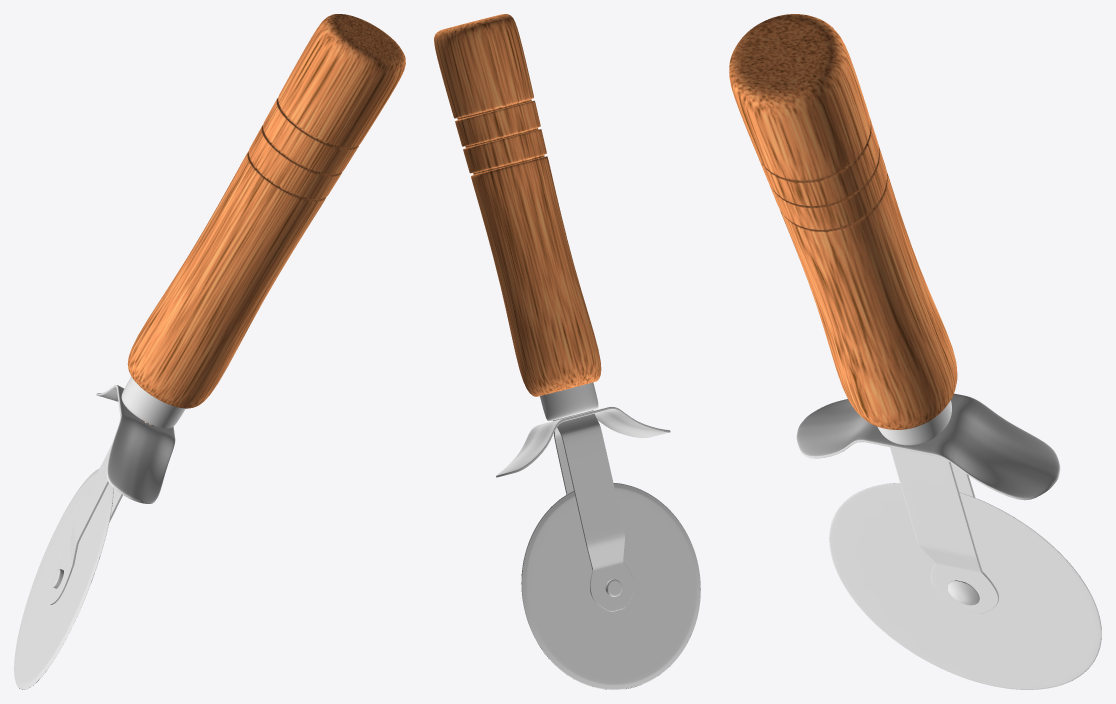
Rendered from pizza_knife.obj.
3 views of the same model, side by side, from view 1: azimuth 30°, elevation 25°; view 2: azimuth 150°, elevation 25°; view 3: azimuth 270°, elevation 25° (orthographic). The views are drawn at different scales.
Parts seen in each view (by area): view 1: dynamic; view 2: dynamic; view 3: dynamic.
Boxes of the visible parts, x1,y1,x2,y2 form: dynamic: (14, 14, 405, 689); dynamic: (434, 14, 700, 689); dynamic: (729, 14, 1101, 689).
Bounding box in the file's own units: 254 × 485 × 201.
1 material, 1 textured.
